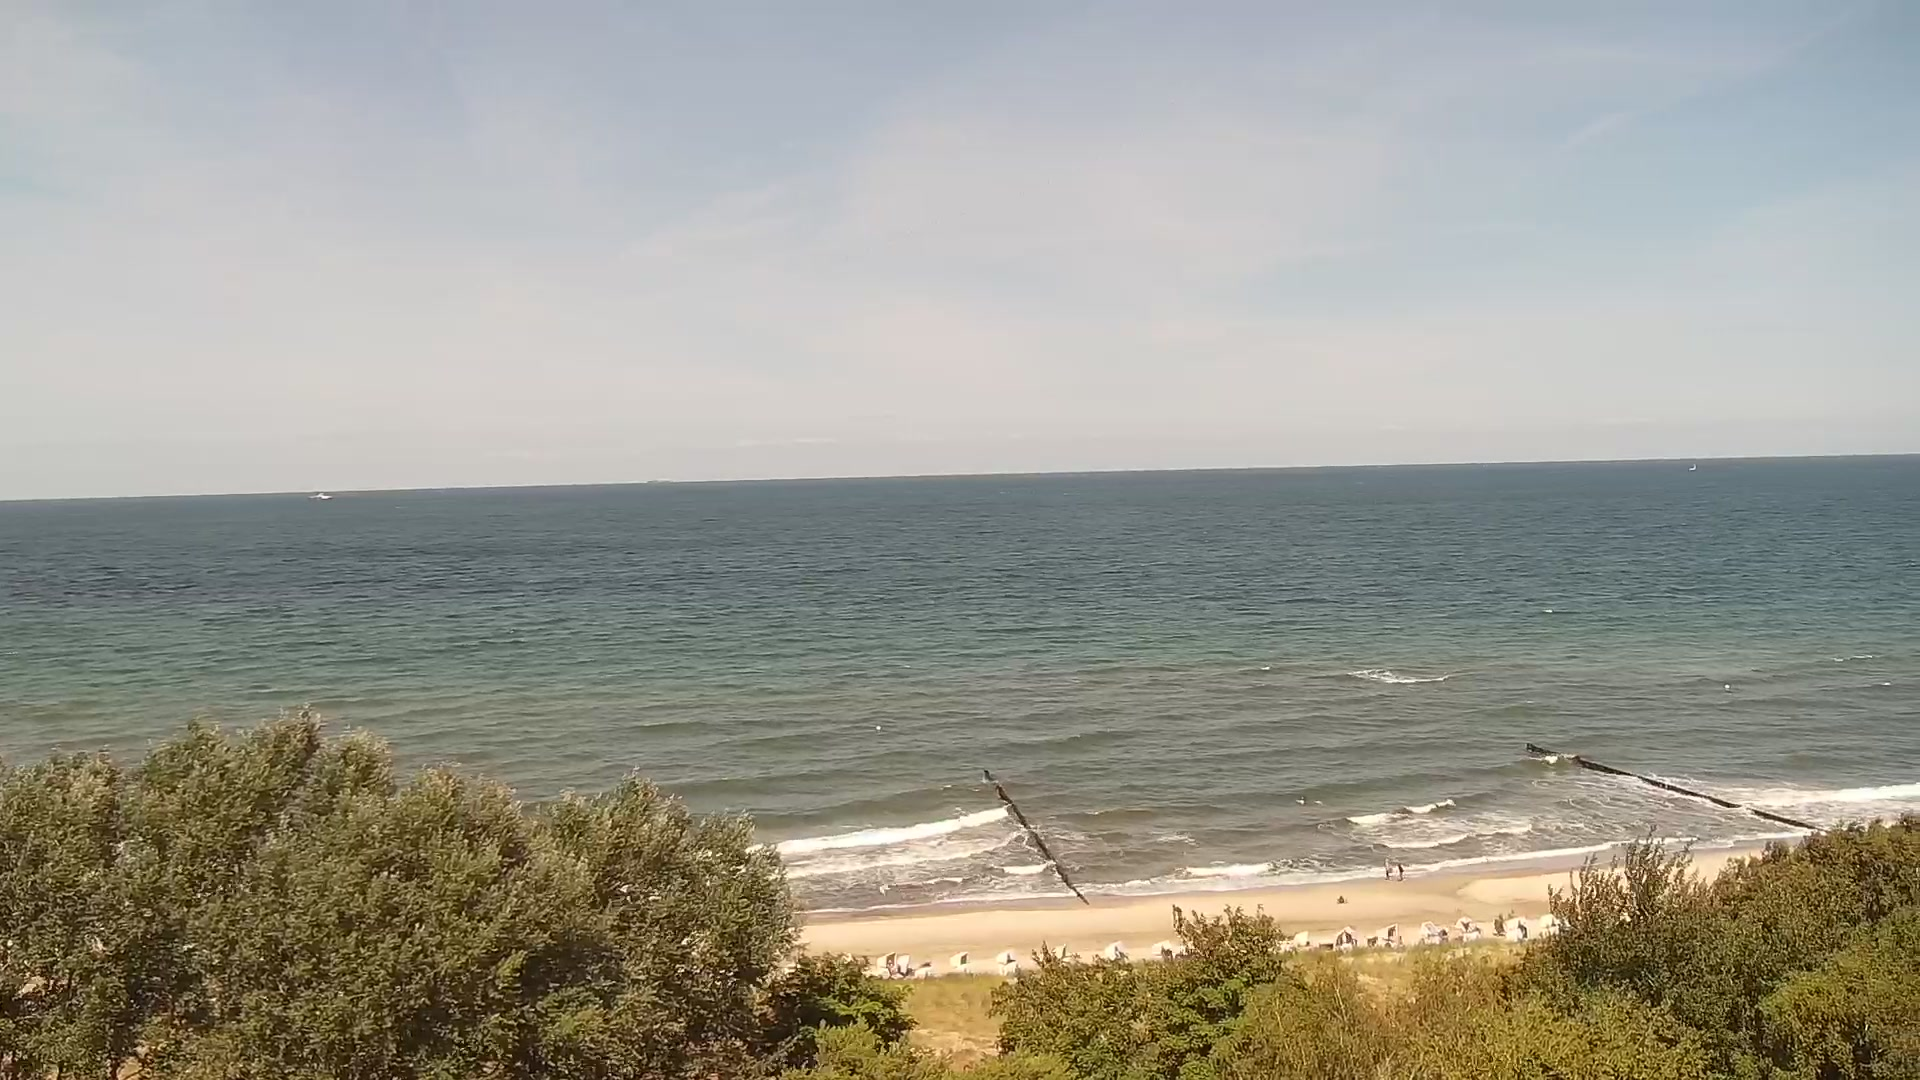human: (1383, 857, 1391, 879), (1397, 862, 1404, 880), (1336, 895, 1344, 903)
sea: (307, 491, 333, 499), (1688, 462, 1696, 471)
